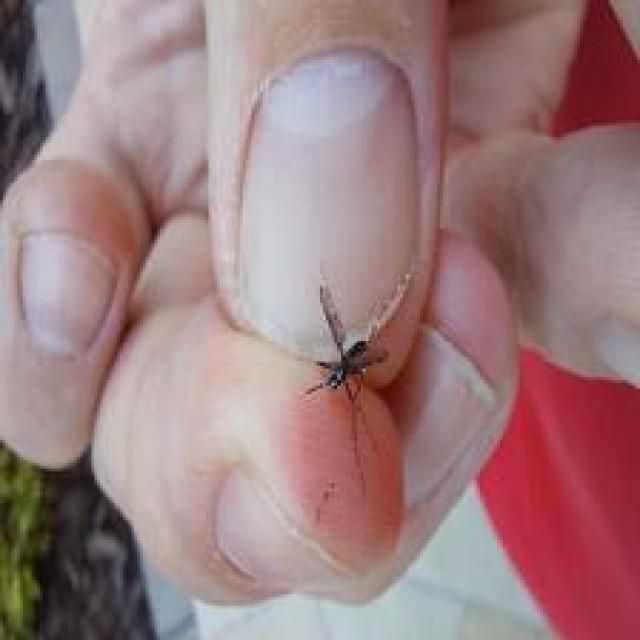Aedes albopictus: (301, 268, 413, 488)
